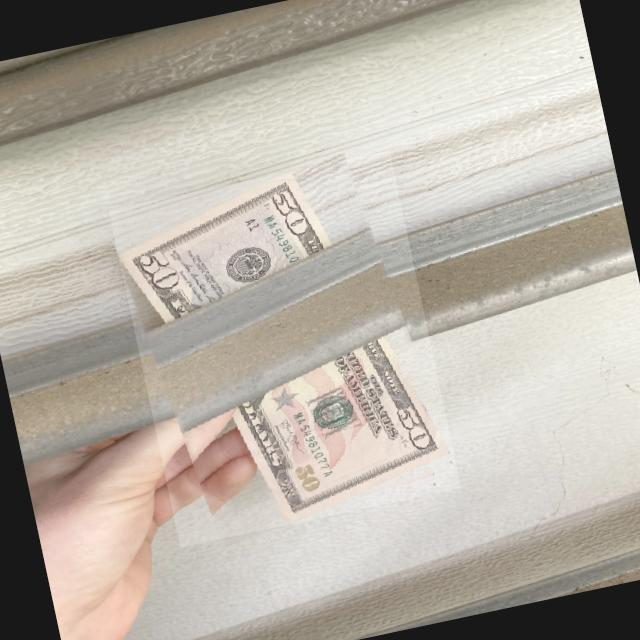fifty: (119, 159, 454, 547)
